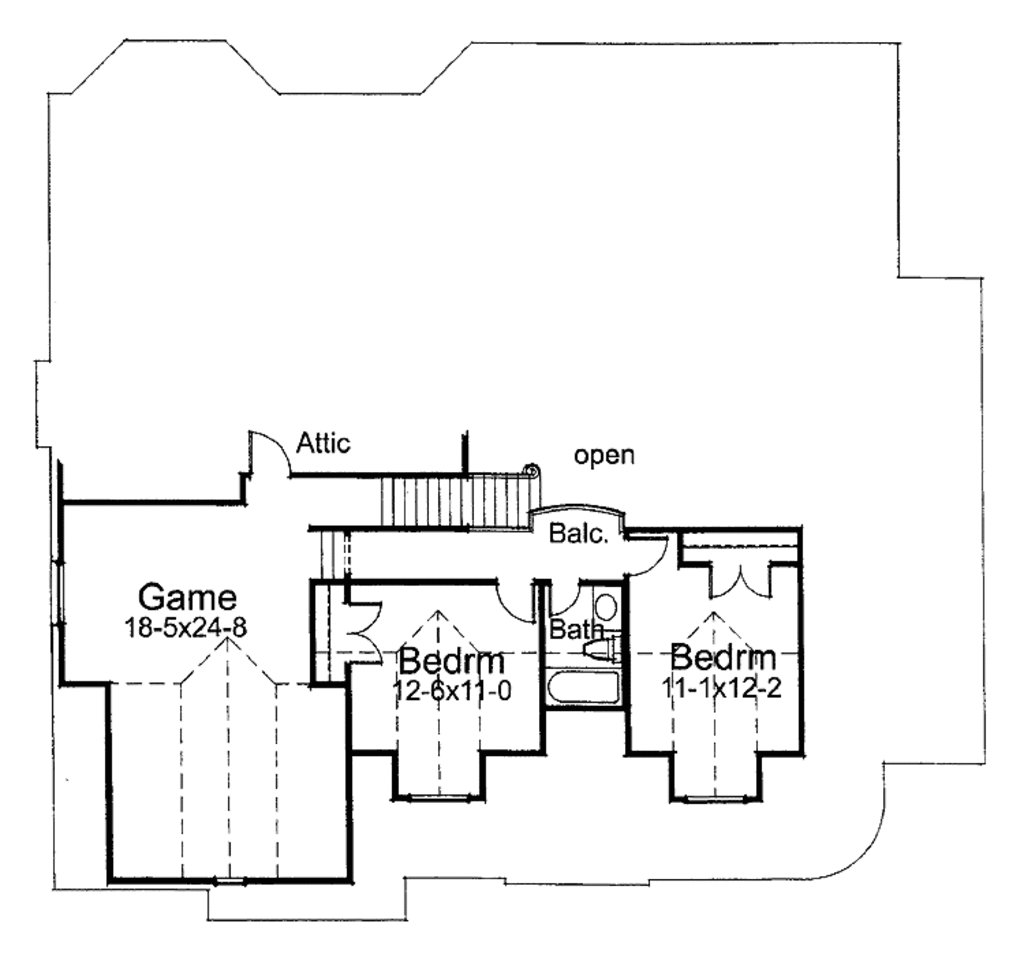door: (691, 557, 791, 606), (233, 424, 299, 483), (350, 596, 396, 671), (488, 574, 544, 630), (621, 524, 673, 578), (539, 577, 591, 618)
small_sink: (587, 577, 629, 624)
stairs: (359, 463, 544, 526)
tub: (536, 665, 633, 709), (569, 623, 638, 675)
window: (39, 554, 87, 621), (672, 777, 759, 809), (399, 783, 481, 802), (205, 875, 262, 886)
